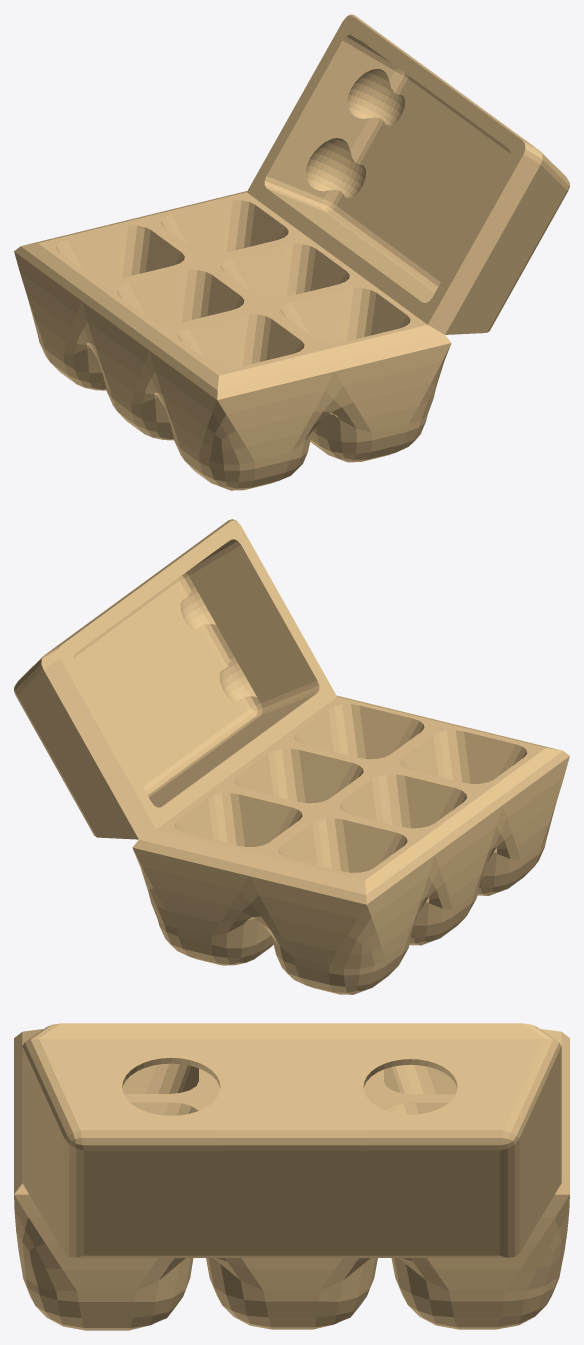
Rendered from eggbox.fbx.
The picture shows the model from 3 angles, top to bottom: view 1: azimuth 30°, elevation 25°; view 2: azimuth 150°, elevation 25°; view 3: azimuth 270°, elevation 25°; orthographic projection. The views are drawn at different scales.
Parts seen in each view (by area): view 1: Cube; view 2: Cube; view 3: Cube.
Part boxes in pixels (x1,y1,x2,y2): Cube: [14, 14, 569, 490]; Cube: [14, 519, 569, 994]; Cube: [14, 1023, 569, 1330].
Size of the model in its own units: 604 by 439 by 566.
